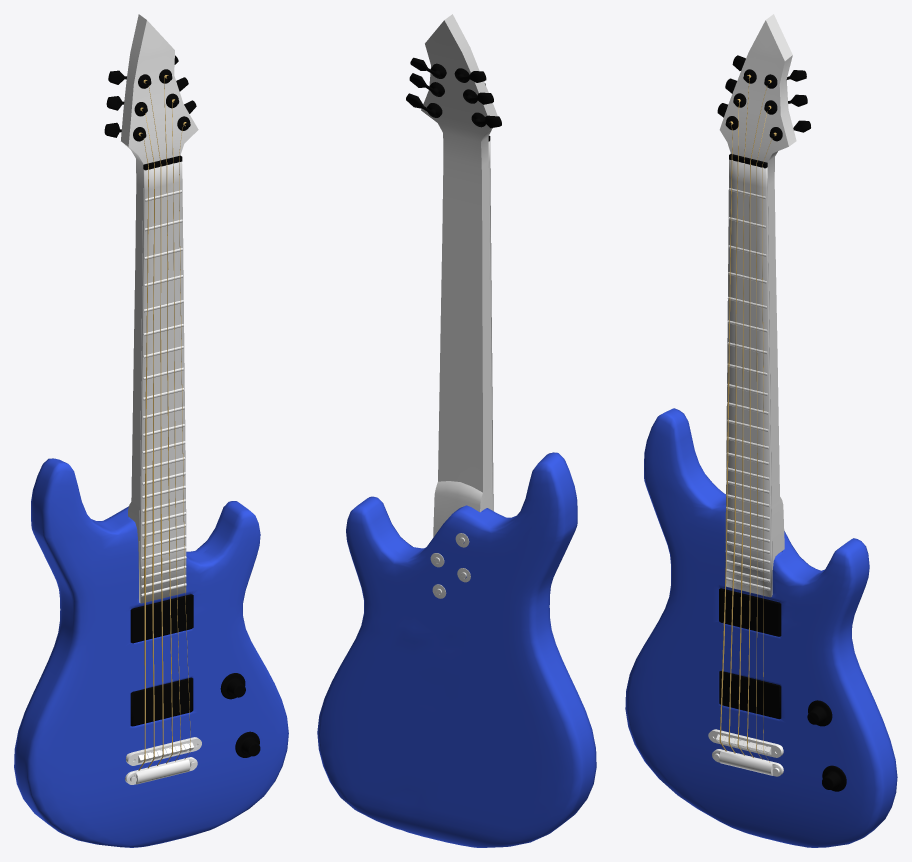
File: gitar.glb
3 renders of one model, left to right at view 1: azimuth 30°, elevation 25°; view 2: azimuth 150°, elevation 25°; view 3: azimuth 330°, elevation 25°, orthographic. The views are drawn at different scales.
Visible parts, largest first — view 1: body, Cube.002, Cube, Cube.034, Cube.033, Circle.018, Circle.017, Cylinder.033, Circle.016, Circle.021, Circle.020, Cylinder.030 (+3 smaller); view 2: body, Cube, Cube.002; view 3: body, Cube.002, Cube, Cube.033, Cube.034, Circle.016, Circle.018, Circle.017, Circle.021, Cylinder.033, Circle.020, Cylinder.030 (+3 smaller).
Part boxes in pixels (bbox=[...]): body: bbox=[14, 458, 288, 847]; Cube.002: bbox=[139, 161, 186, 603]; Cube: bbox=[121, 14, 198, 600]; Cube.034: bbox=[130, 677, 193, 726]; Cube.033: bbox=[130, 594, 193, 643]; Circle.018: bbox=[143, 79, 163, 765]; Circle.017: bbox=[138, 132, 148, 770]; Cylinder.033: bbox=[125, 757, 197, 784]; Circle.016: bbox=[140, 107, 154, 768]; Circle.021: bbox=[164, 75, 172, 763]; Circle.020: bbox=[172, 99, 181, 761]; Cylinder.030: bbox=[126, 737, 201, 765]; body: bbox=[317, 452, 596, 847]; Cube: bbox=[421, 14, 497, 537]; Cube.002: bbox=[488, 141, 493, 510]; body: bbox=[625, 408, 897, 847]; Cube.002: bbox=[725, 159, 772, 597]; Cube: bbox=[719, 14, 796, 594]; Cube.033: bbox=[719, 588, 781, 636]; Cube.034: bbox=[719, 671, 781, 719]; Circle.016: bbox=[728, 99, 740, 753]; Circle.018: bbox=[737, 74, 751, 755]; Circle.017: bbox=[719, 121, 733, 751]; Circle.021: bbox=[747, 80, 771, 757]; Cylinder.033: bbox=[712, 749, 783, 776]; Circle.020: bbox=[756, 105, 771, 759]; Cylinder.030: bbox=[708, 729, 783, 757].
Bounding box in the file's own units: 1.79 × 5.37 × 0.3715.
